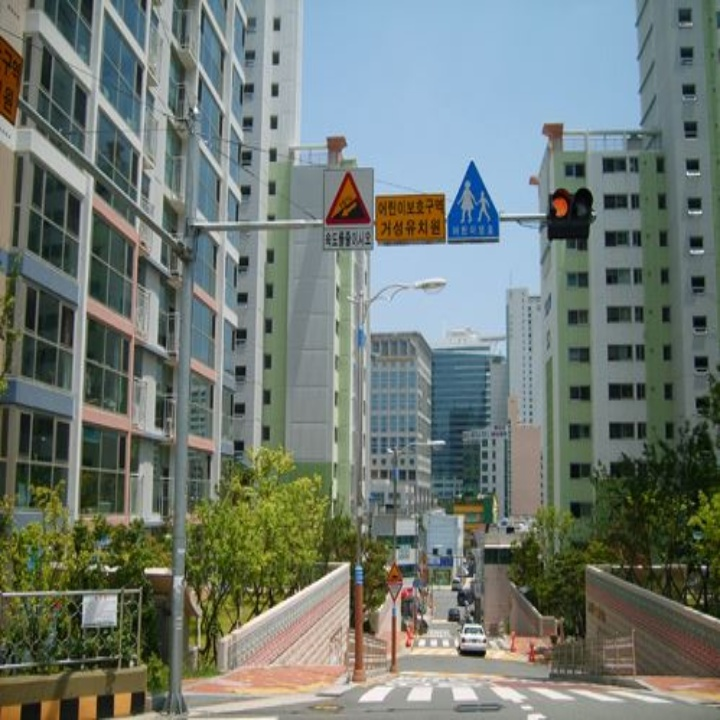child: (451, 174, 494, 222)
